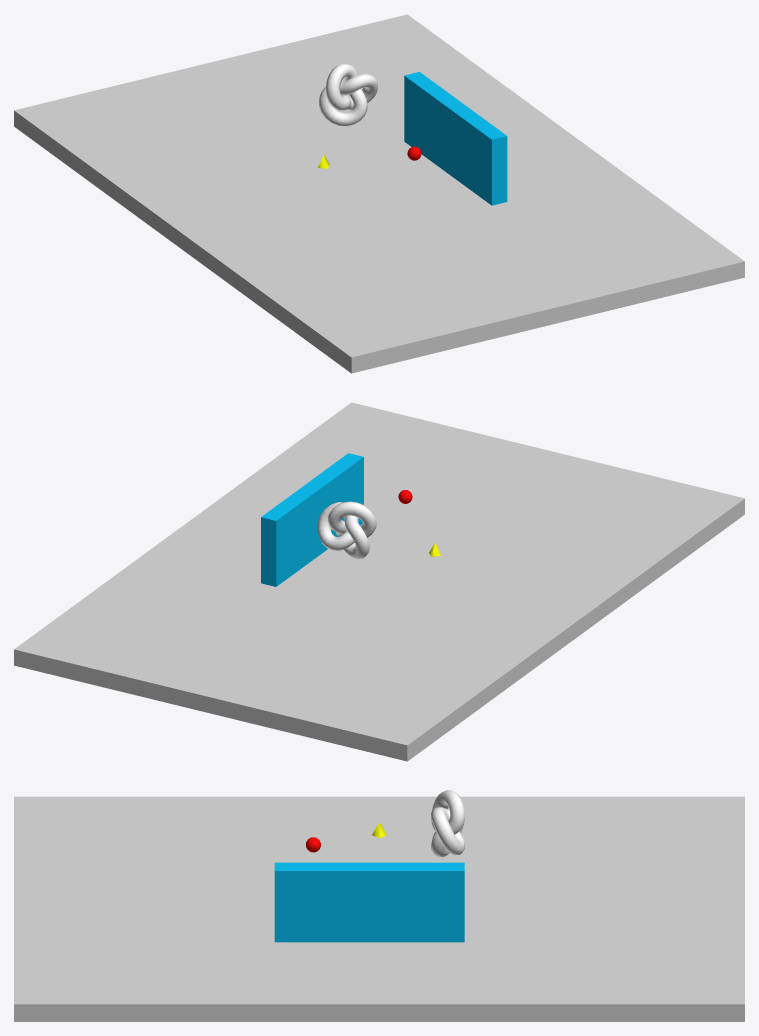
3 renders of one model, top to bottom at view 1: azimuth 30°, elevation 25°; view 2: azimuth 150°, elevation 25°; view 3: azimuth 270°, elevation 25°, orthographic. The views are drawn at different scales.
Visible parts, largest first — view 1: Box (×2), TorusKnot; view 2: Box (×2), TorusKnot; view 3: Box (×2), TorusKnot.
Part boxes in pixels (left/top/right/bottom): Box (×2): left=14, top=14, right=744, bottom=373; TorusKnot: left=319, top=63, right=378, bottom=126; Box (×2): left=14, top=402, right=744, bottom=761; TorusKnot: left=317, top=501, right=376, bottom=558; Box (×2): left=14, top=796, right=744, bottom=1021; TorusKnot: left=431, top=790, right=465, bottom=857.
Size of the model in its own units: 25.53 by 7.04 by 37.93.
